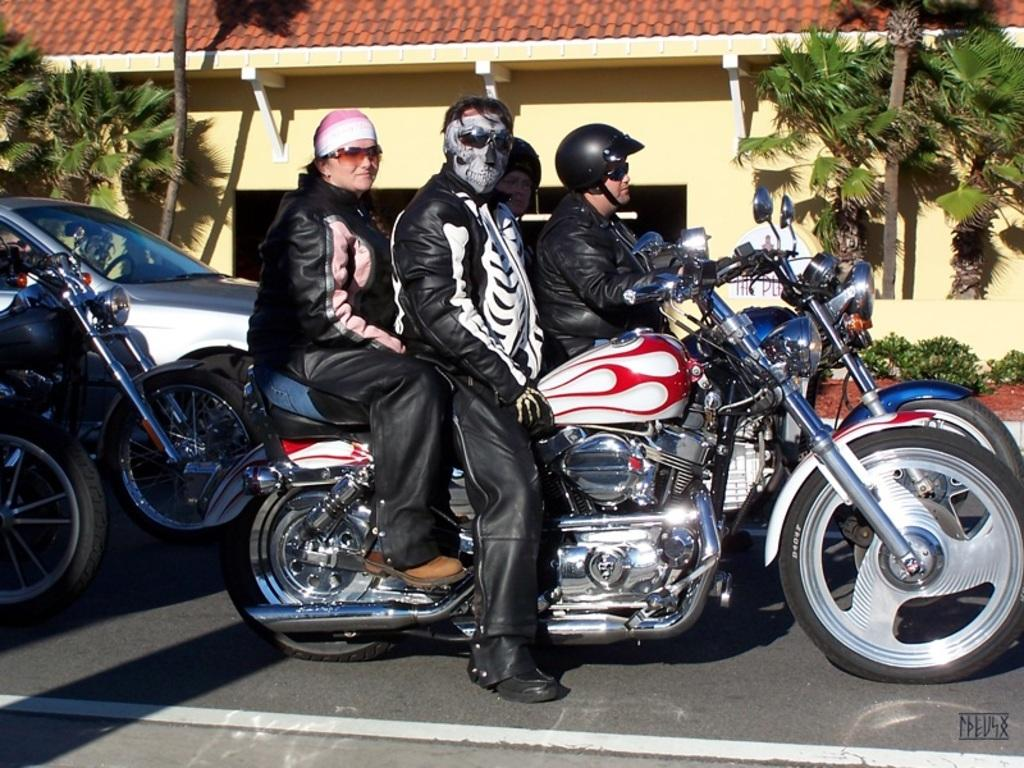helmet: (554, 123, 645, 203), (468, 137, 541, 215)
nohelmet: (443, 98, 515, 199), (312, 108, 382, 200)
